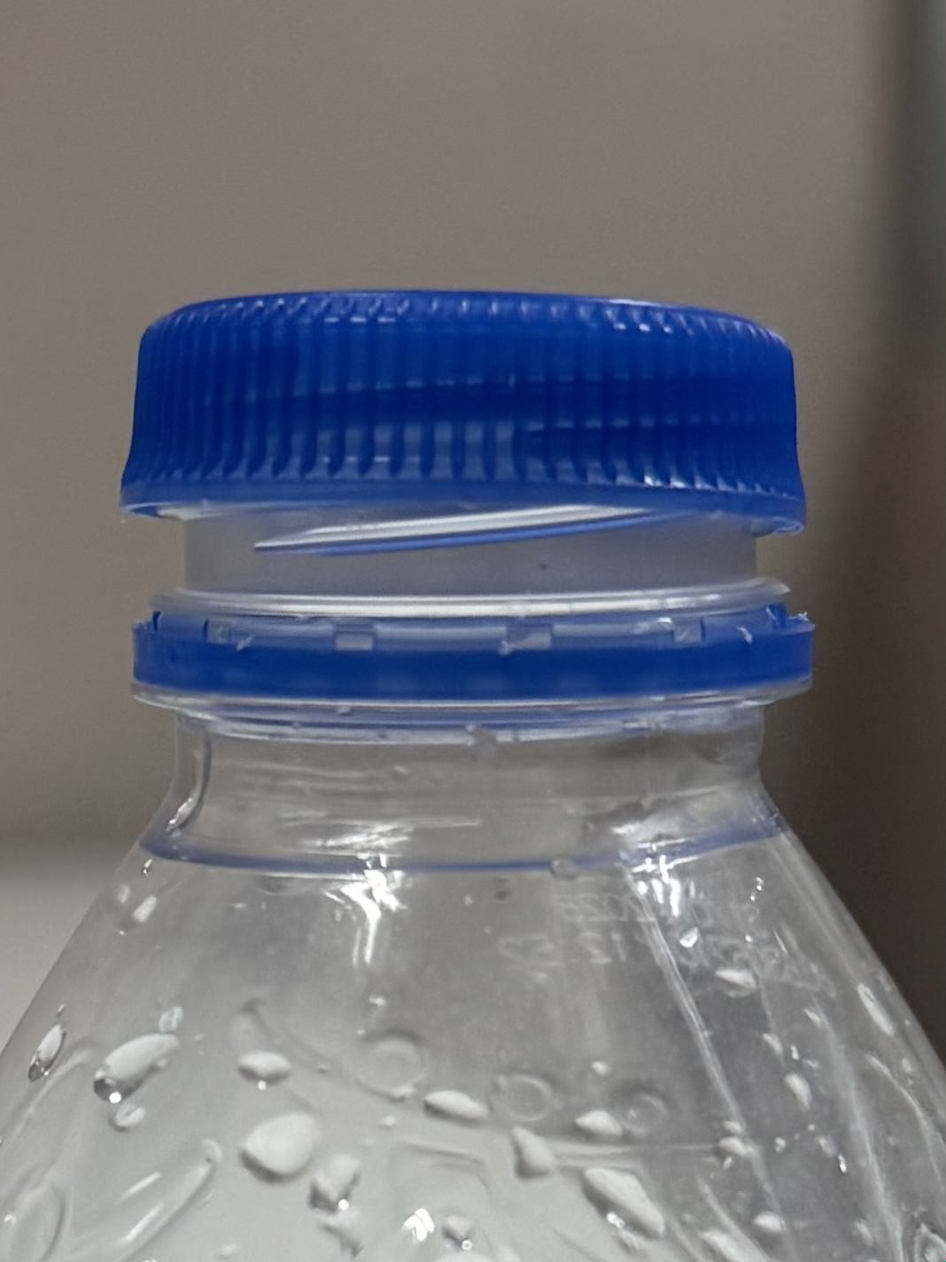half_cap: (118, 285, 828, 744)
